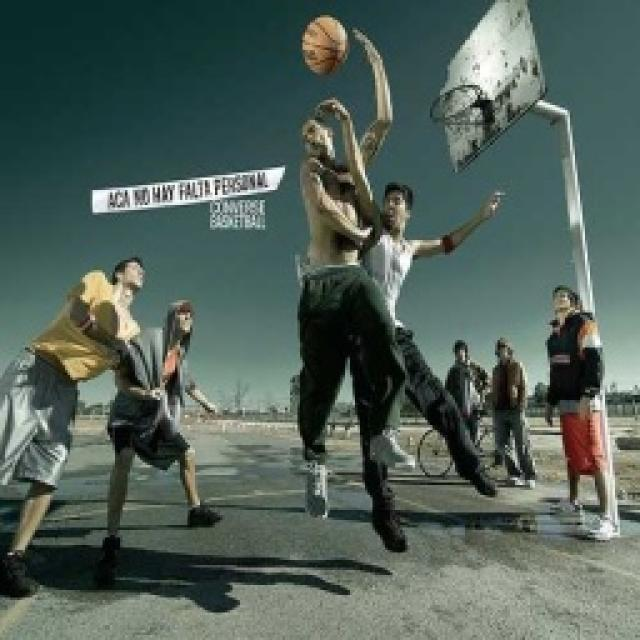rim: (299, 11, 356, 82)
